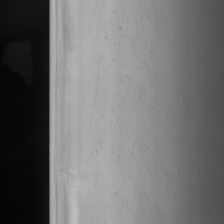silk_spot: (87, 0, 165, 209)
